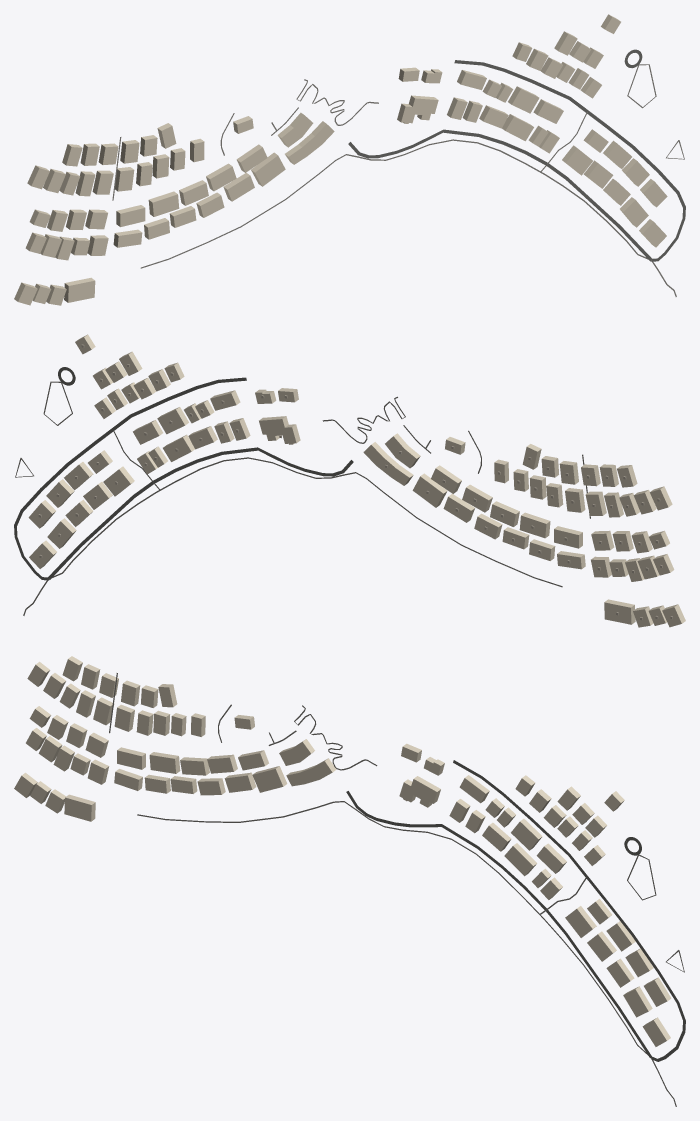
Rendered from historic-palestine-11_34_3529_3289.glb.
The picture shows the model from 3 angles, top to bottom: view 1: azimuth 30°, elevation 25°; view 2: azimuth 150°, elevation 25°; view 3: azimuth 330°, elevation 25°; orthographic projection.
Visible parts, largest first — view 1: Road פשוש, Road צופית, Road .007, Building_.073, Building_.075, Building_.007, Building_, Building_.074, Building_.013, Building_.008, Building_.014, Building_.054 (+8 smaller); view 2: Road פשוש, Road צופית, Road .007, Building_.075, Building_.073, Building_.007, Building_, Building_.074, Building_.013, Building_.008, Building_.005, Building_.054 (+8 smaller); view 3: Road פשוש, Road צופית, Road .007, Building_.075, Building_.073.
Boxes of the visible parts, bbox=[...] form: Road פשוש: bbox=[348, 129, 651, 261]; Road צופית: bbox=[454, 60, 685, 261]; Road .007: bbox=[140, 139, 647, 268]; Building_.073: bbox=[285, 121, 334, 164]; Building_.075: bbox=[397, 95, 438, 123]; Building_.007: bbox=[251, 152, 285, 186]; Building_: bbox=[64, 277, 95, 302]; Building_.074: bbox=[277, 112, 313, 147]; Building_.013: bbox=[148, 191, 179, 216]; Building_.008: bbox=[223, 172, 254, 201]; Building_.014: bbox=[116, 205, 145, 227]; Building_.054: bbox=[508, 86, 539, 113]; Road פשוש: bbox=[48, 447, 353, 579]; Road צופית: bbox=[14, 377, 246, 580]; Road .007: bbox=[49, 457, 562, 587]; Building_.075: bbox=[259, 416, 300, 444]; Building_.073: bbox=[363, 442, 413, 485]; Building_.007: bbox=[412, 473, 447, 507]; Building_: bbox=[604, 599, 635, 624]; Building_.074: bbox=[385, 433, 420, 468]; Building_.013: bbox=[519, 512, 550, 538]; Building_.008: bbox=[443, 494, 474, 522]; Building_.005: bbox=[462, 484, 492, 512]; Building_.054: bbox=[157, 407, 188, 434]; Road פשוש: bbox=[346, 791, 651, 1058]; Road צופית: bbox=[453, 760, 685, 1061]; Road .007: bbox=[137, 801, 647, 1054]; Building_.075: bbox=[399, 776, 440, 807]; Building_.073: bbox=[286, 758, 336, 786].
Size of the model in its own units: 718 by 317 by 8.7.
